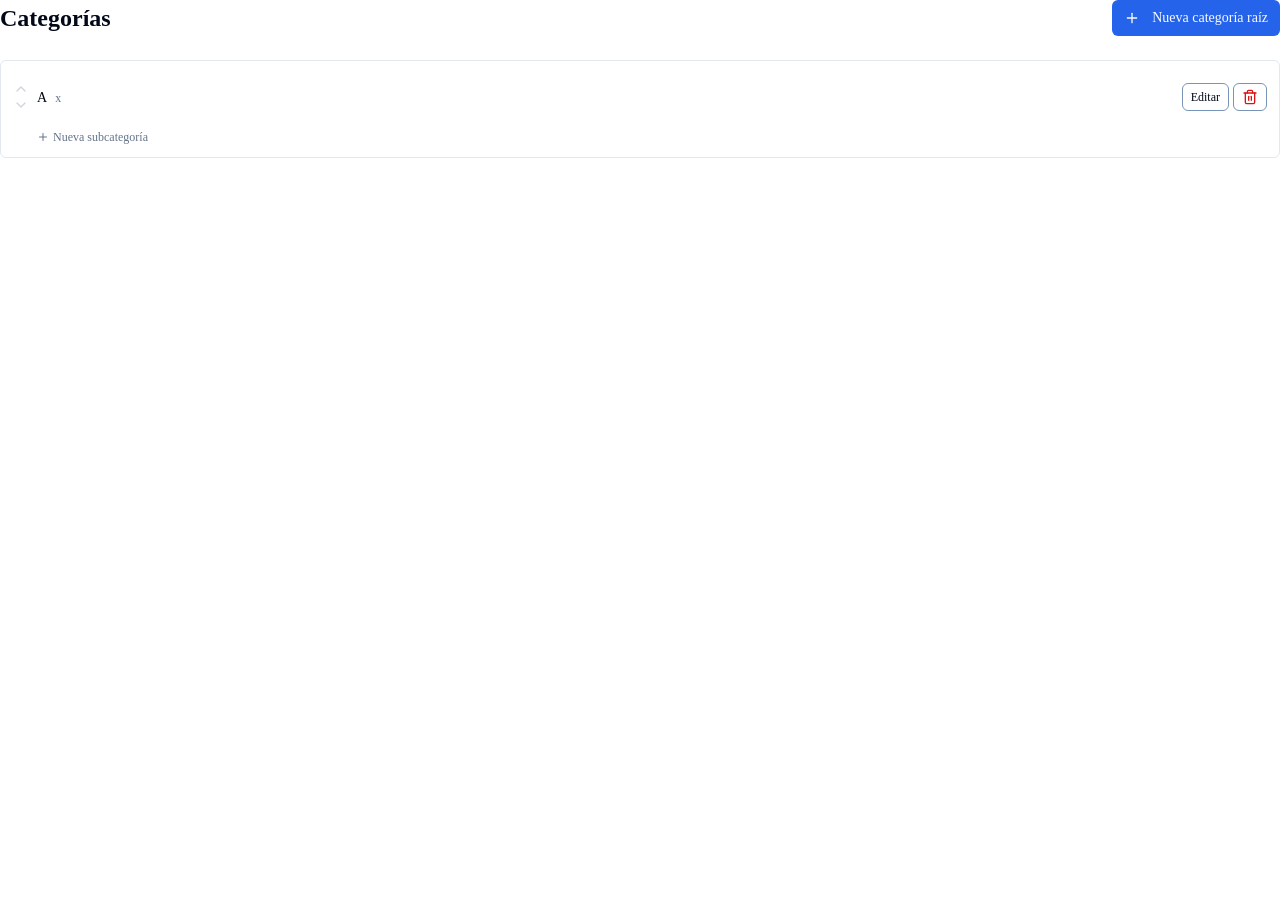
Admin categorías — moderación previa (M5) › una categoría sin marca: la casilla nace desmarcada y EDITABLE
Expected: the text "A" is shown, [37,90,47,105]
Click the button "Editar" at (1205, 97), box [1182,83,1229,111]
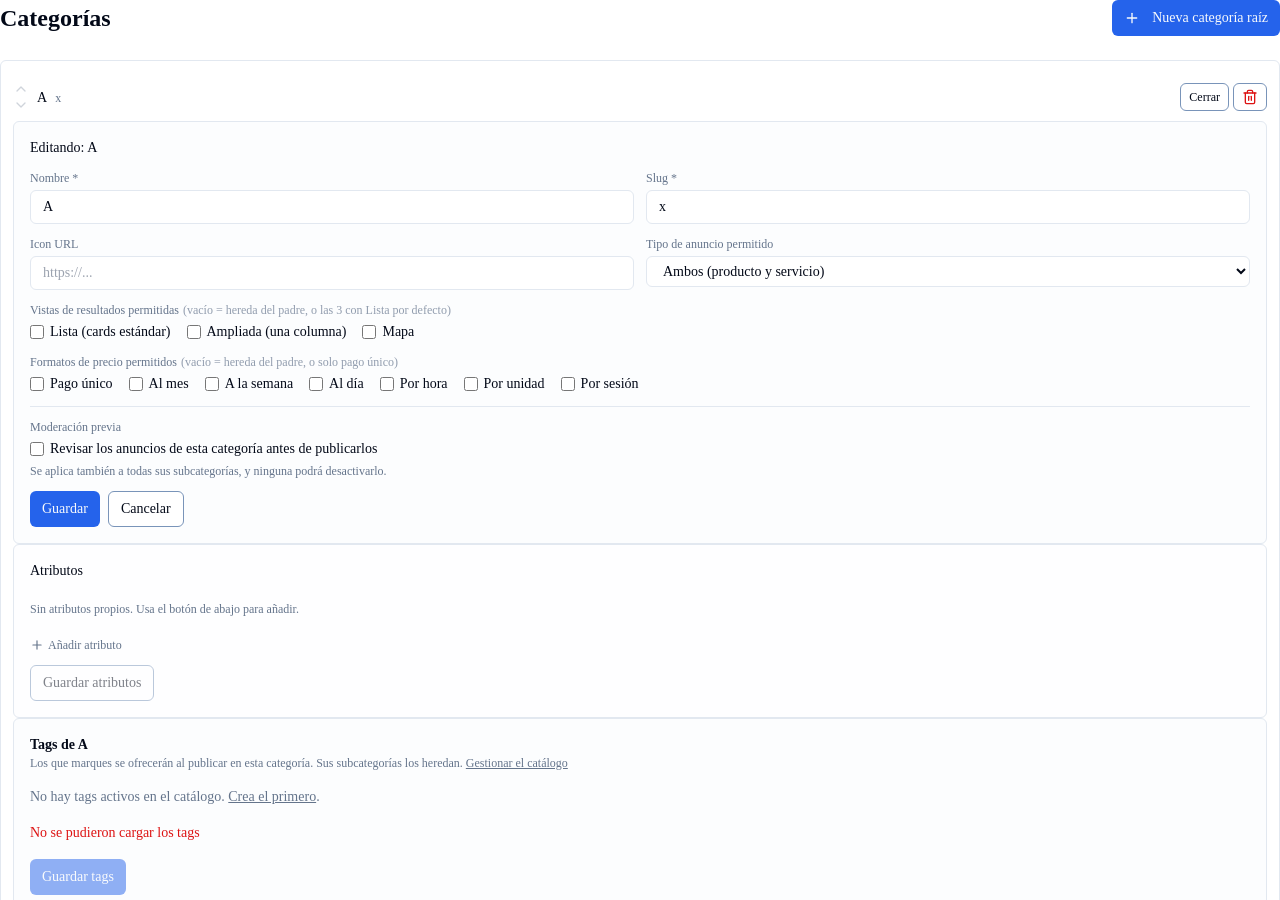
Expected: the checkbox with test id "requires-review-checkbox" is not checked, [30,442,44,456]
Expected: the checkbox with test id "requires-review-checkbox" is enabled, [30,442,44,456]
